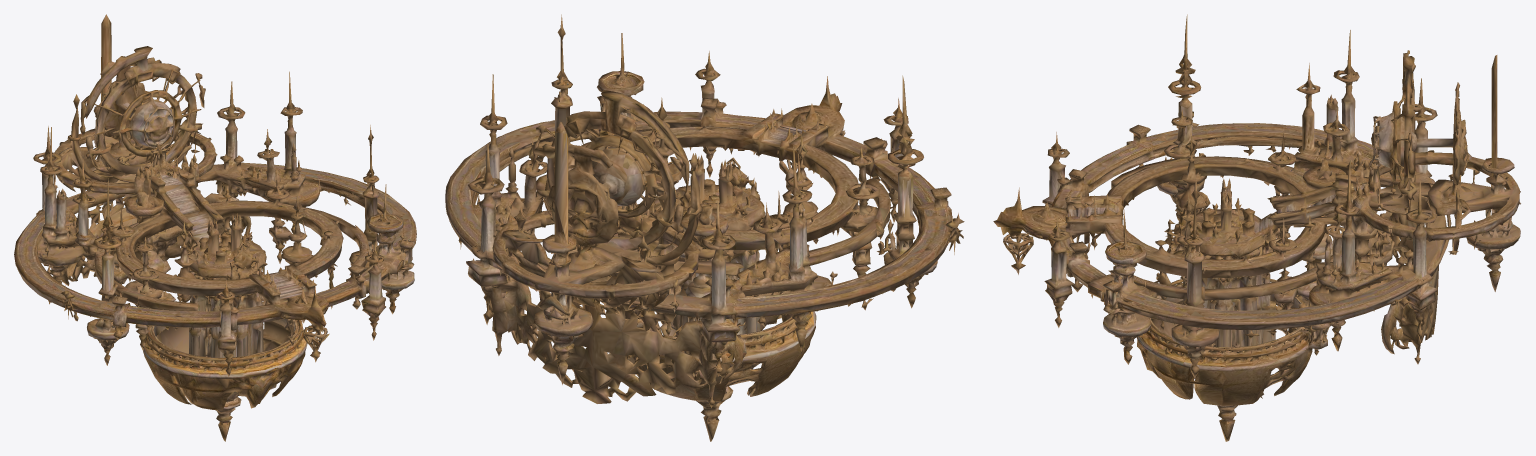
File: Celestial_Golden_Cita.glb
3 renders of one model, left to right at view 1: azimuth 30°, elevation 25°; view 2: azimuth 150°, elevation 25°; view 3: azimuth 270°, elevation 25°, orthographic. The views are drawn at different scales.
Visible parts, largest first — view 1: Celestial_Golden_Cita; view 2: Celestial_Golden_Cita; view 3: Celestial_Golden_Cita.
Boxes of the visible parts, box(x1,y1,x2,y2) form: Celestial_Golden_Cita: box(14, 14, 416, 441); Celestial_Golden_Cita: box(445, 14, 964, 441); Celestial_Golden_Cita: box(993, 14, 1520, 441).
Size of the model in its own units: 1.71 by 1.54 by 1.9.
Materials: 1 (1 with a texture image).
